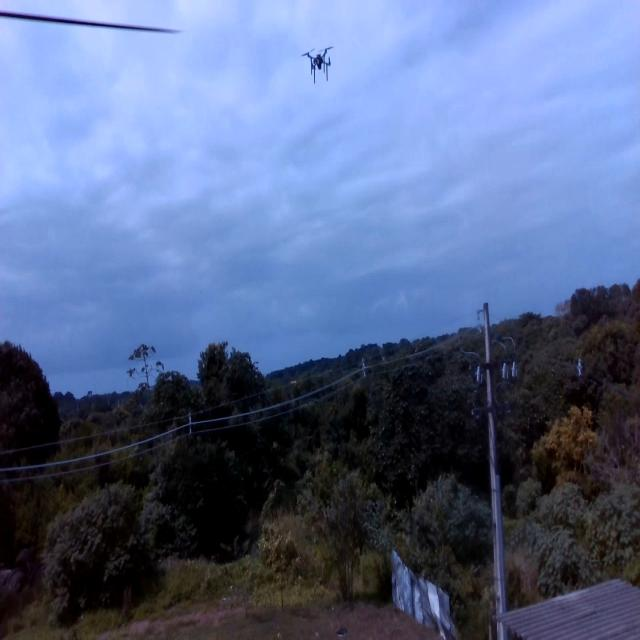-uav-: (298, 37, 338, 85)
